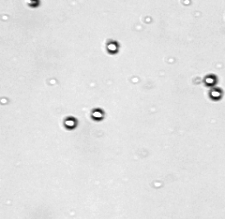Dead Cell: (26, 1, 38, 7)
Living Cell: (209, 87, 223, 101), (105, 41, 119, 53), (64, 117, 78, 129), (91, 108, 104, 120), (204, 74, 216, 86)
